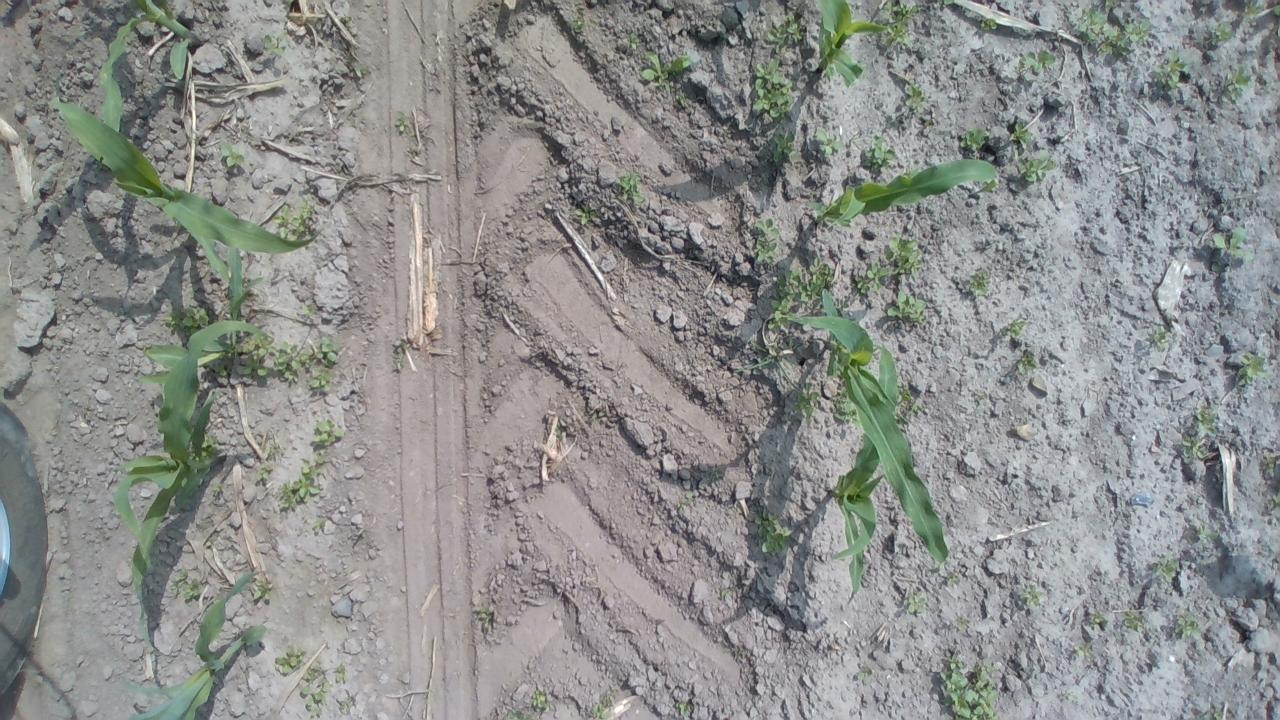Maize: (109, 320, 274, 660), (48, 98, 324, 284), (780, 286, 946, 573), (117, 570, 266, 720), (136, 240, 262, 384), (829, 344, 898, 606), (94, 0, 204, 134), (806, 158, 1000, 226), (812, 0, 886, 88)
Weeds: (939, 654, 1001, 720), (777, 256, 834, 302), (752, 57, 794, 118), (734, 339, 794, 381), (278, 456, 324, 508), (640, 52, 692, 90), (754, 510, 794, 554), (274, 197, 314, 240), (882, 0, 918, 47), (274, 340, 314, 382), (765, 13, 805, 54), (884, 236, 924, 276), (242, 332, 276, 375), (163, 305, 208, 337), (1212, 227, 1254, 261), (885, 290, 926, 324), (1016, 150, 1056, 184), (1070, 6, 1107, 42), (1156, 50, 1190, 89), (862, 135, 899, 170), (832, 385, 861, 428), (754, 218, 780, 264), (302, 678, 331, 716), (1222, 66, 1250, 102), (793, 382, 819, 420), (170, 569, 200, 600), (1238, 354, 1267, 386), (1100, 26, 1130, 56), (188, 434, 220, 462), (273, 647, 305, 675), (616, 170, 644, 202), (311, 420, 344, 446), (772, 133, 800, 163), (1017, 50, 1055, 72), (816, 127, 845, 155), (1174, 610, 1202, 638), (768, 298, 792, 330), (960, 126, 991, 150), (998, 316, 1028, 340), (316, 337, 340, 366), (904, 83, 927, 113), (220, 142, 246, 168), (1152, 557, 1178, 583), (866, 262, 888, 292), (968, 270, 992, 296), (1194, 406, 1216, 434), (1020, 583, 1044, 608), (1124, 21, 1149, 45), (1182, 436, 1208, 459), (1148, 326, 1172, 350), (311, 368, 334, 393), (262, 32, 288, 54), (206, 356, 232, 376), (1009, 122, 1032, 144), (1212, 22, 1234, 45), (1016, 351, 1037, 374), (574, 206, 596, 226), (391, 340, 405, 371), (474, 604, 494, 625), (592, 698, 612, 719), (907, 592, 928, 612), (1124, 611, 1144, 632), (252, 580, 272, 600), (1243, 3, 1264, 22), (530, 688, 548, 710), (1073, 644, 1095, 660), (895, 383, 912, 403), (570, 12, 586, 33), (1196, 525, 1218, 540), (255, 462, 273, 480), (676, 490, 692, 510), (1196, 709, 1223, 720), (306, 664, 322, 682), (952, 616, 969, 632), (854, 276, 870, 293), (395, 116, 411, 132), (836, 298, 850, 316), (504, 709, 526, 720), (262, 440, 278, 455), (675, 700, 691, 715), (1262, 454, 1276, 470), (626, 33, 640, 49), (981, 18, 998, 31), (1267, 492, 1280, 508), (894, 413, 910, 426), (335, 664, 346, 681), (1089, 613, 1106, 624), (210, 482, 224, 495), (338, 699, 352, 712), (858, 667, 872, 680), (909, 402, 923, 415), (934, 0, 954, 8), (678, 93, 690, 106), (314, 519, 326, 531), (302, 304, 316, 314), (902, 168, 915, 178), (592, 410, 606, 419), (976, 393, 988, 403), (948, 574, 958, 584), (720, 588, 730, 598), (356, 64, 368, 72), (712, 470, 722, 479), (1104, 0, 1114, 8), (1274, 4, 1280, 16), (924, 120, 932, 128), (286, 0, 294, 4), (804, 0, 810, 4)
